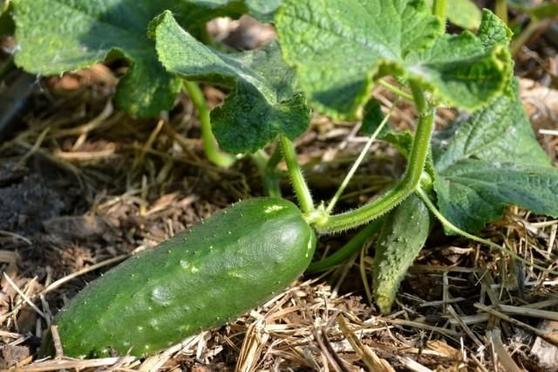cucumber: (49, 196, 315, 357)
